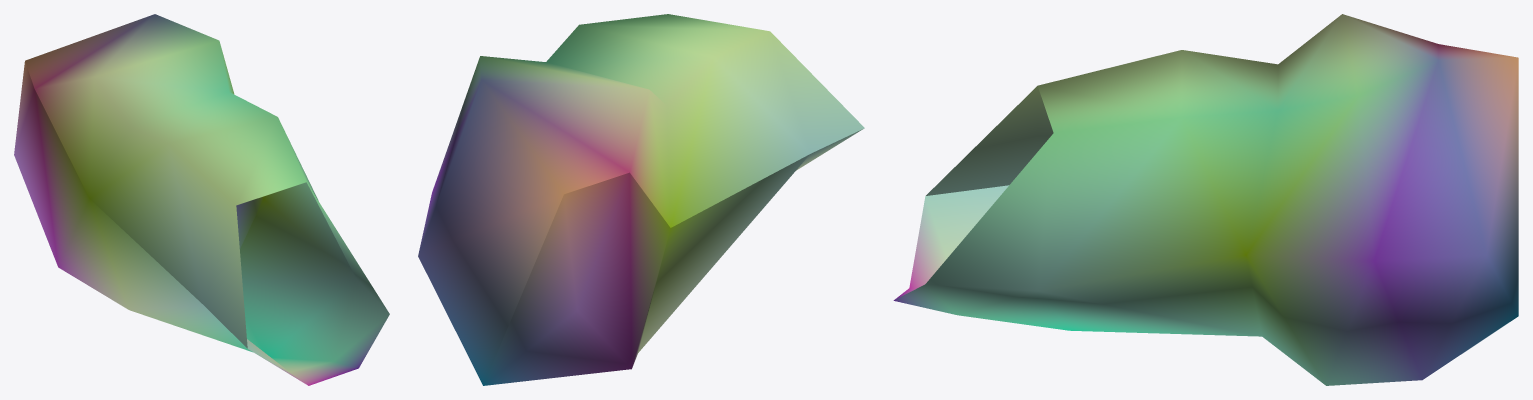
3 renders of one model, left to right at view 1: azimuth 30°, elevation 25°; view 2: azimuth 150°, elevation 25°; view 3: azimuth 270°, elevation 25°, orthographic. The views are drawn at different scales.
Visible parts, largest first — view 1: part; view 2: part; view 3: part.
Part boxes in pixels (<box>): part: <box>14,14,389,385</box>; part: <box>418,14,864,385</box>; part: <box>893,14,1518,385</box>.
Size of the model in its own units: 17 by 22 by 39.
